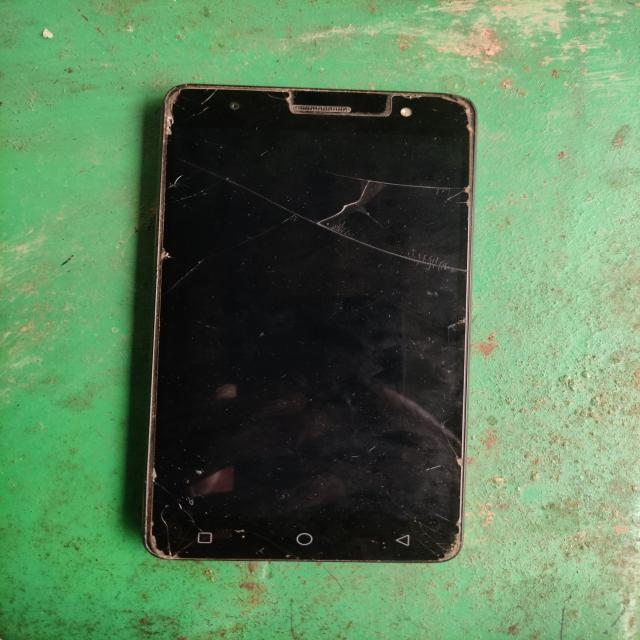Crack: (306, 169, 395, 232)
Dents: (135, 459, 173, 552), (158, 87, 192, 145)
